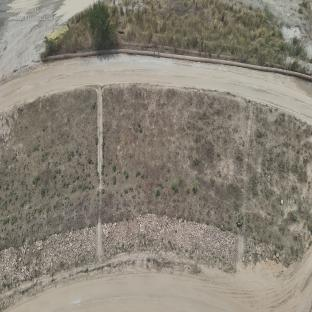rock_toe: (104, 212, 235, 274), (1, 226, 98, 292), (246, 240, 284, 271)
slope_drain: (237, 103, 257, 273), (95, 86, 105, 260)
